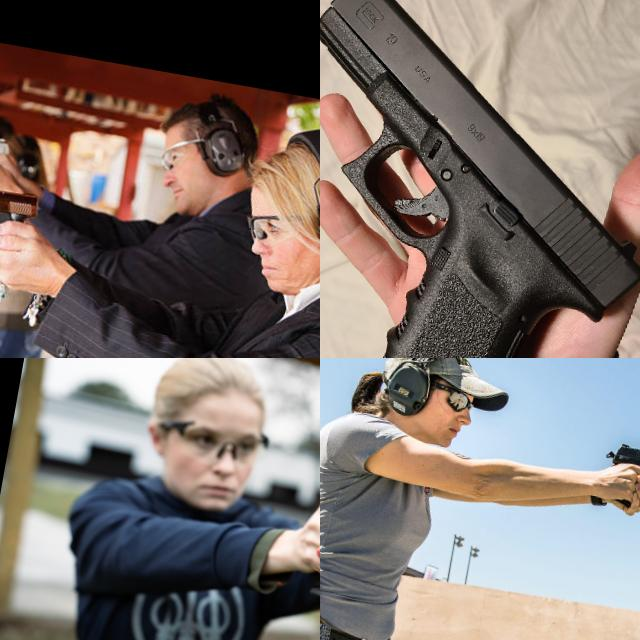handgun: (320, 0, 640, 358), (0, 175, 56, 241), (0, 122, 44, 176), (599, 436, 640, 492)
